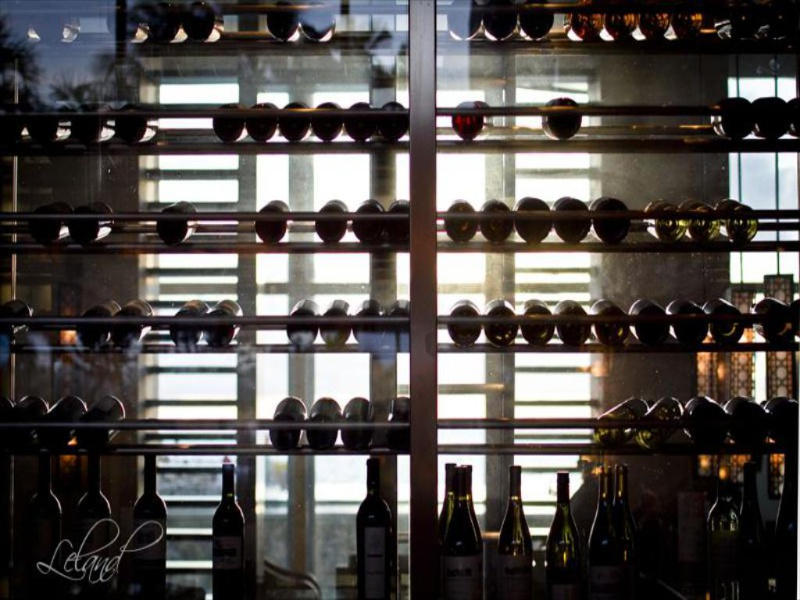wine: (1, 2, 795, 600)
